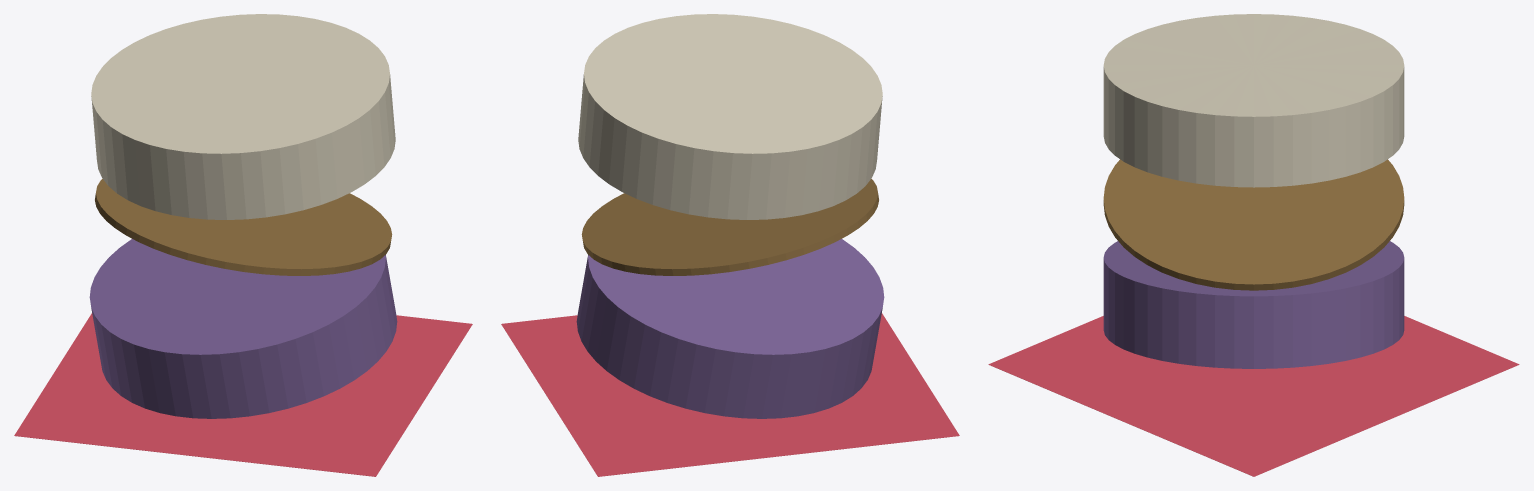
Rendered from UCV.glb.
3 views of the same model, side by side, from view 1: azimuth 30°, elevation 25°; view 2: azimuth 150°, elevation 25°; view 3: azimuth 270°, elevation 25° (orthographic).
Parts seen in each view (by area): view 1: Mesh_Mesh_head_geo.001_lambert2SG.001; view 2: Mesh_Mesh_head_geo.001_lambert2SG.001; view 3: Mesh_Mesh_head_geo.001_lambert2SG.001.
Part boxes in pixels (box(x1,y1,x2,y2)): Mesh_Mesh_head_geo.001_lambert2SG.001: box(14, 14, 472, 476); Mesh_Mesh_head_geo.001_lambert2SG.001: box(501, 14, 959, 476); Mesh_Mesh_head_geo.001_lambert2SG.001: box(988, 14, 1519, 476).
Size of the model in its own units: 0.0354 by 0.0227 by 0.0354.
